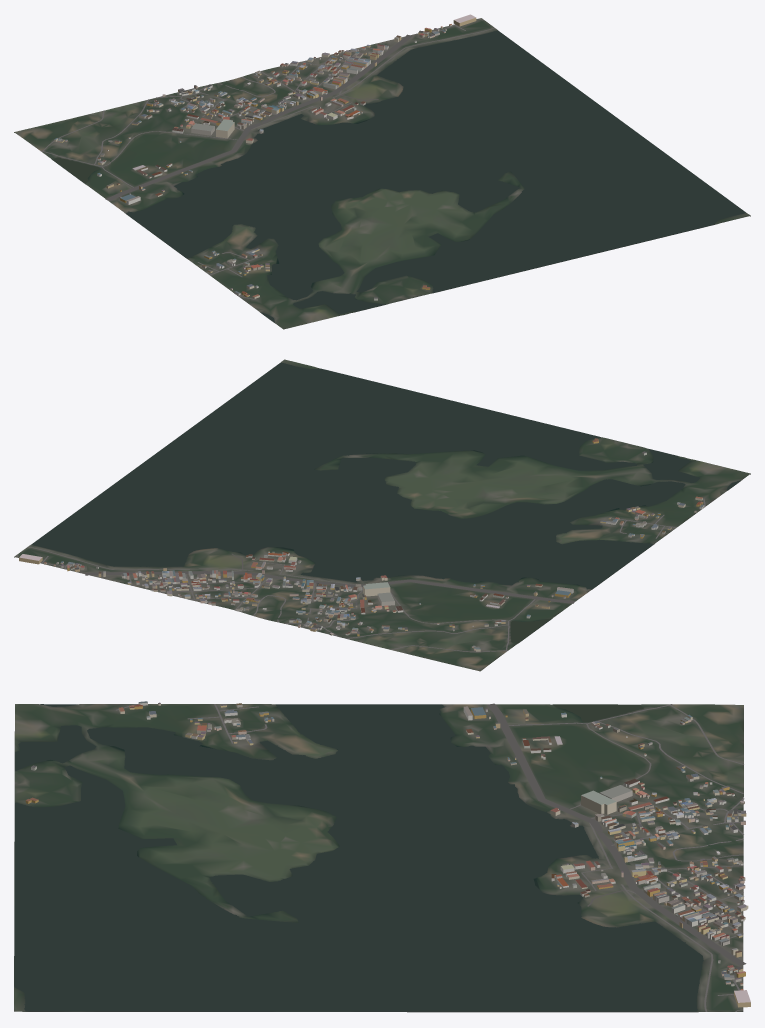
3 renders of one model, top to bottom at view 1: azimuth 30°, elevation 25°; view 2: azimuth 150°, elevation 25°; view 3: azimuth 270°, elevation 25°, orthographic. The views are drawn at different scales.
Visible parts, largest first — view 1: water, ground, buildings, roads; view 2: water, ground, buildings, roads; view 3: water, ground, buildings, roads.
Part boxes in pixels (box(x1,y1,x2,y2)): water: box(53, 30, 745, 322); ground: box(14, 18, 750, 329); buildings: box(54, 14, 476, 300); roads: box(40, 18, 494, 299); water: box(31, 362, 740, 642); ground: box(14, 359, 750, 671); buildings: box(19, 438, 704, 651); roads: box(16, 498, 705, 652); water: box(14, 704, 703, 1011); ground: box(14, 704, 743, 1012); buildings: box(25, 701, 750, 1007); roads: box(116, 703, 746, 1011).
Size of the model in its own units: 1403 by 27.28 by 1417.
